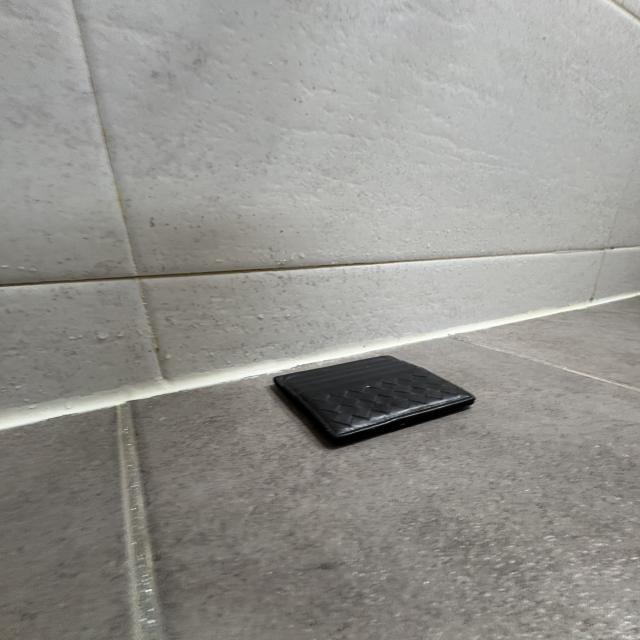wallet: (271, 357, 475, 452)
